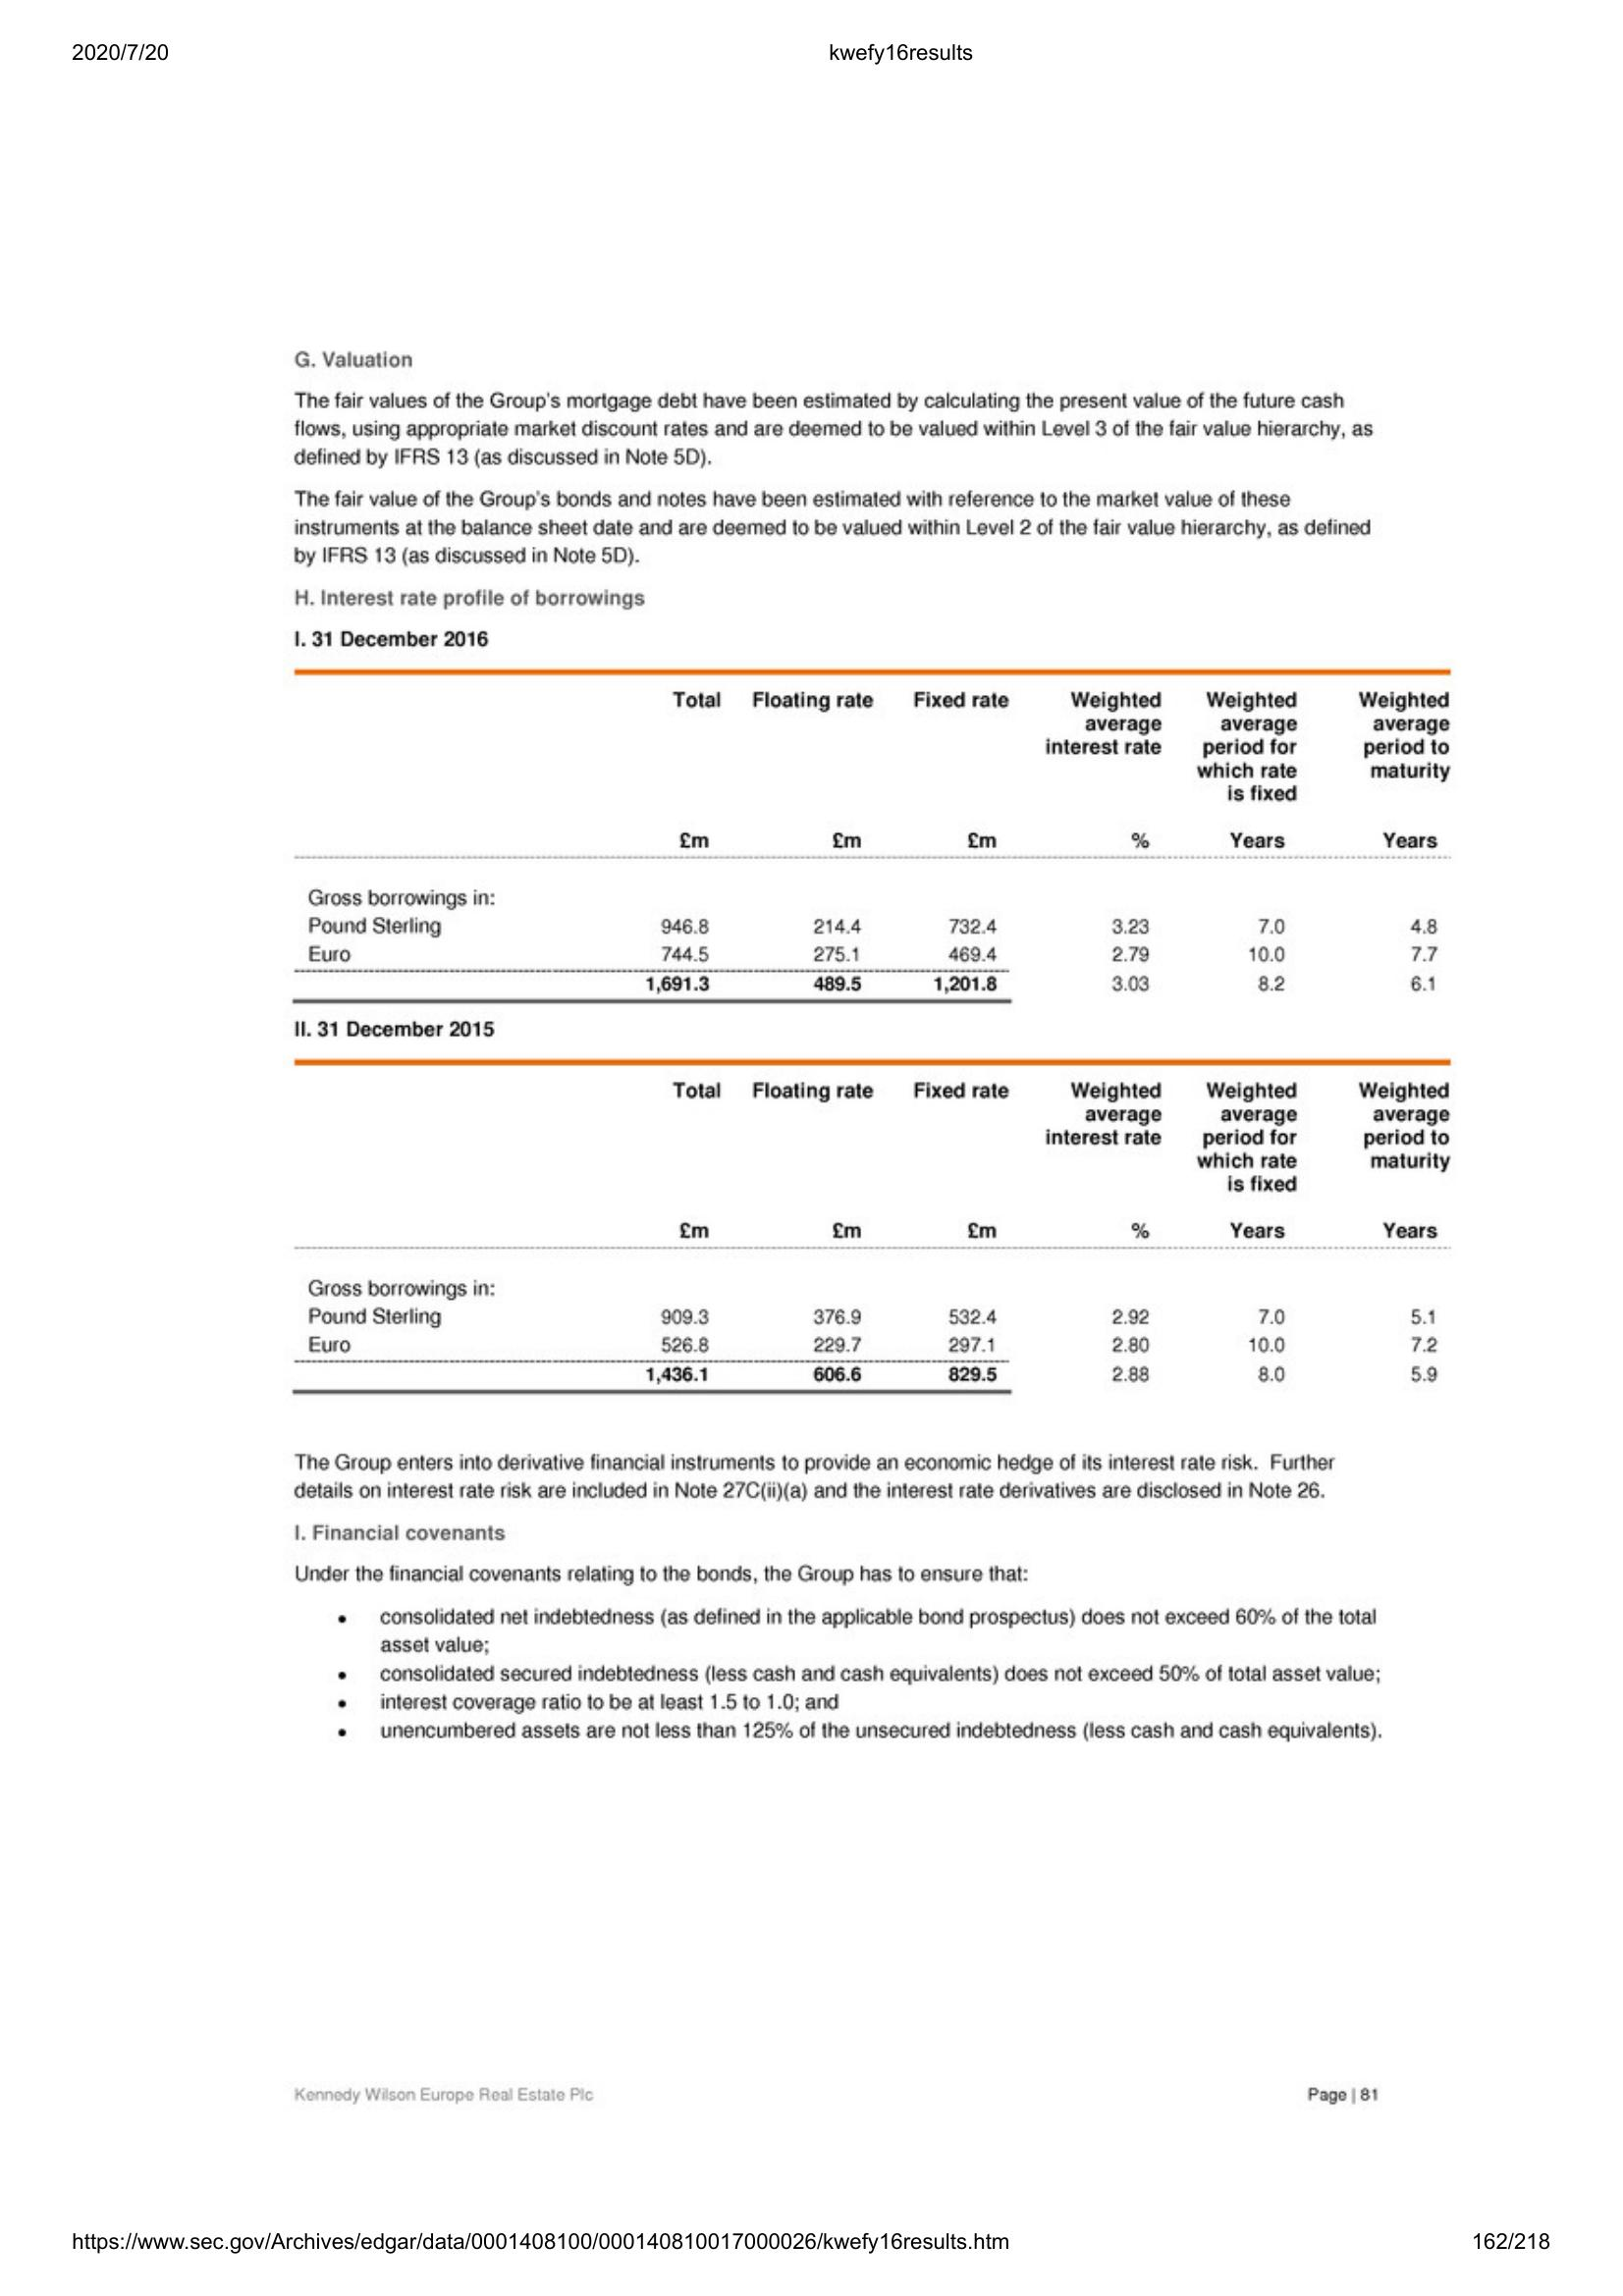table: (285, 662, 1460, 1013), (286, 1050, 1454, 1401)
